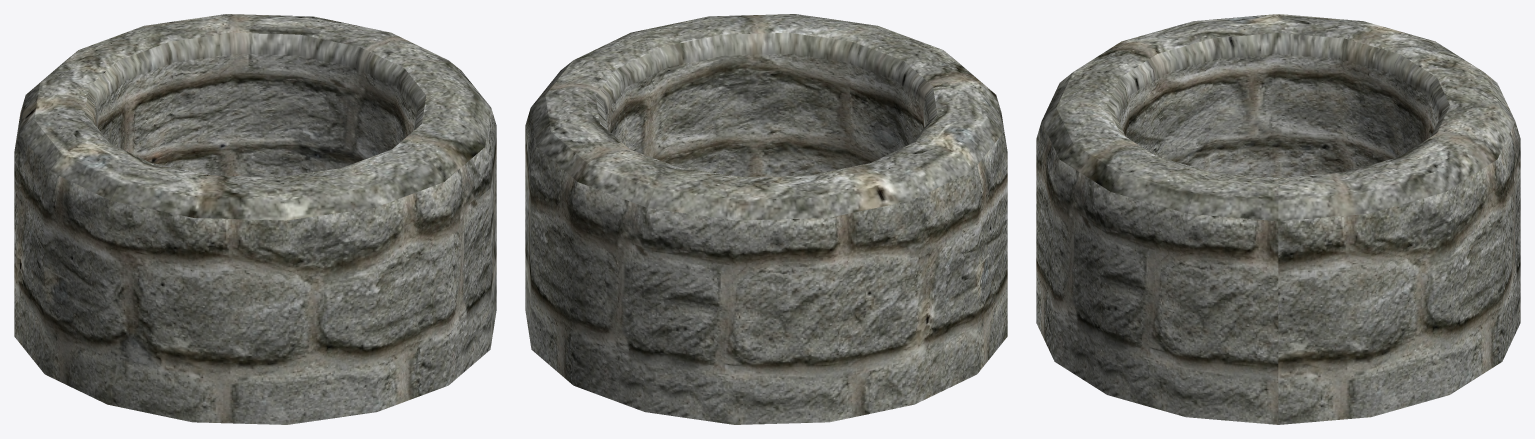
Rendered from well.fbx.
3 renders of one model, left to right at view 1: azimuth 30°, elevation 25°; view 2: azimuth 150°, elevation 25°; view 3: azimuth 270°, elevation 25°, orthographic.
Visible parts, largest first — view 1: pPipe1; view 2: pPipe1; view 3: pPipe1.
Part boxes in pixels (<box>): pPipe1: <box>14,14,496,424</box>; pPipe1: <box>525,14,1007,424</box>; pPipe1: <box>1036,14,1520,424</box>.
Size of the model in its own units: 12 by 6 by 12.
